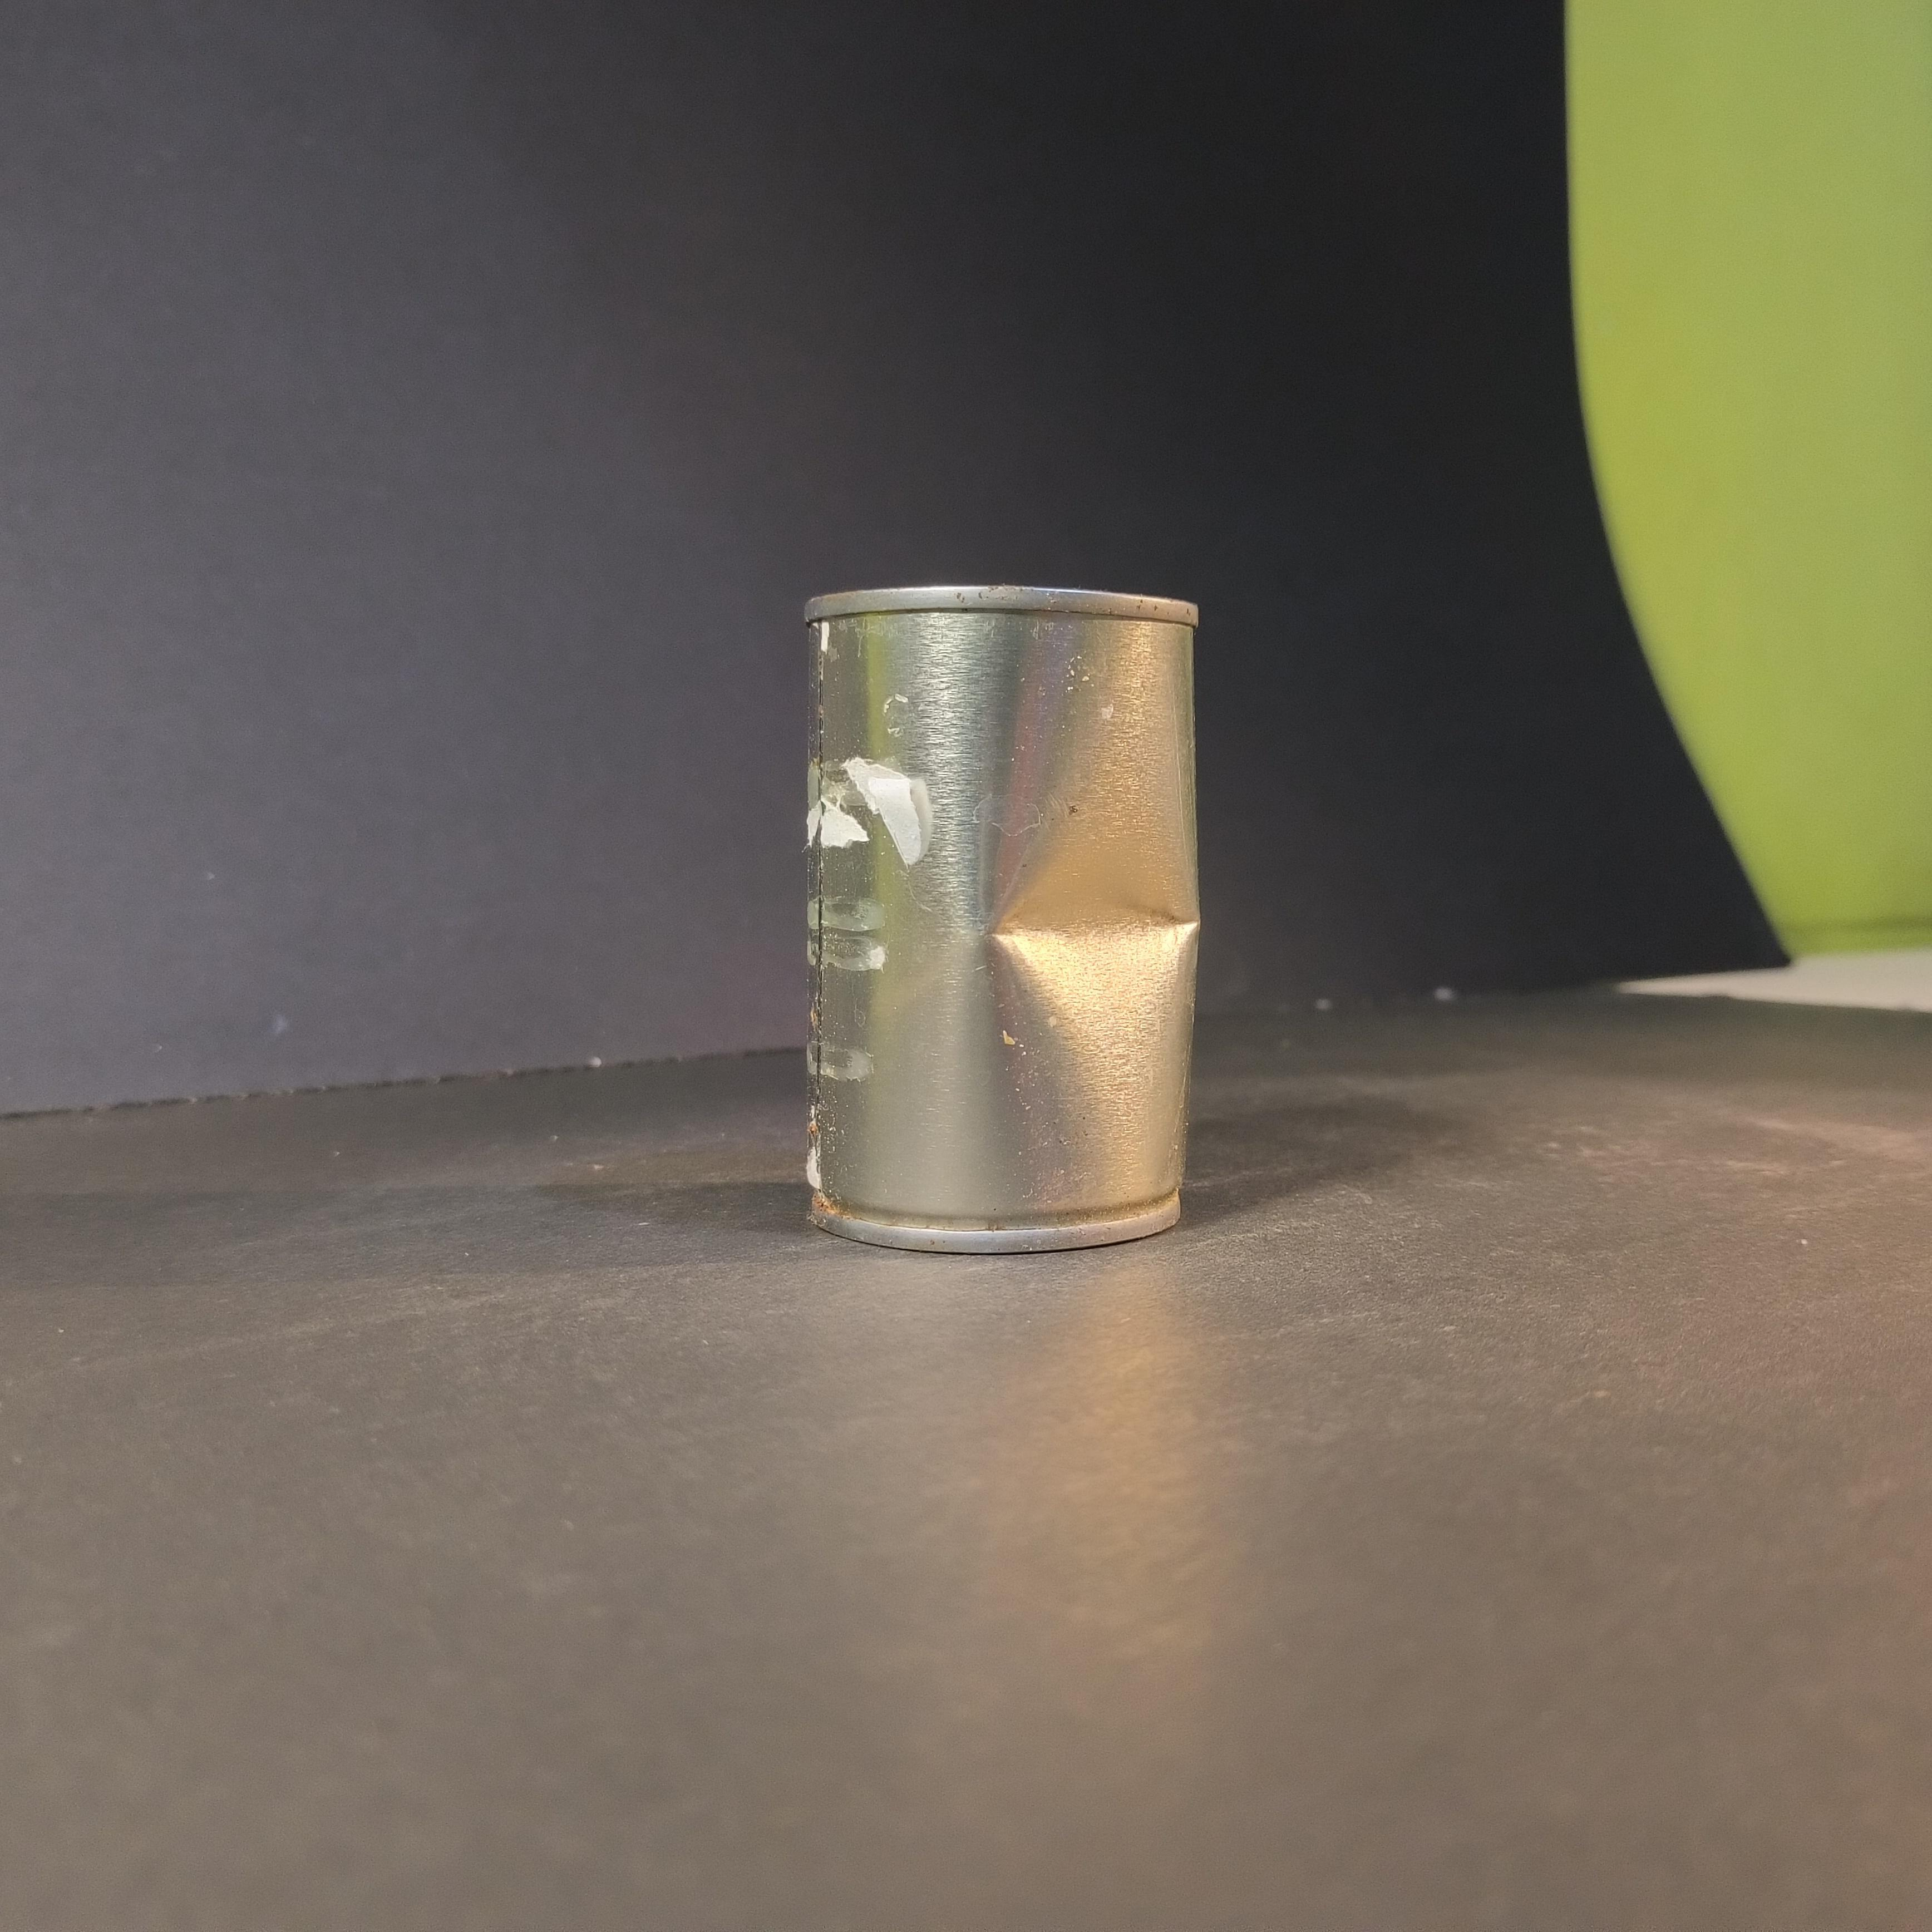Dented: (787, 554, 1215, 1253)
